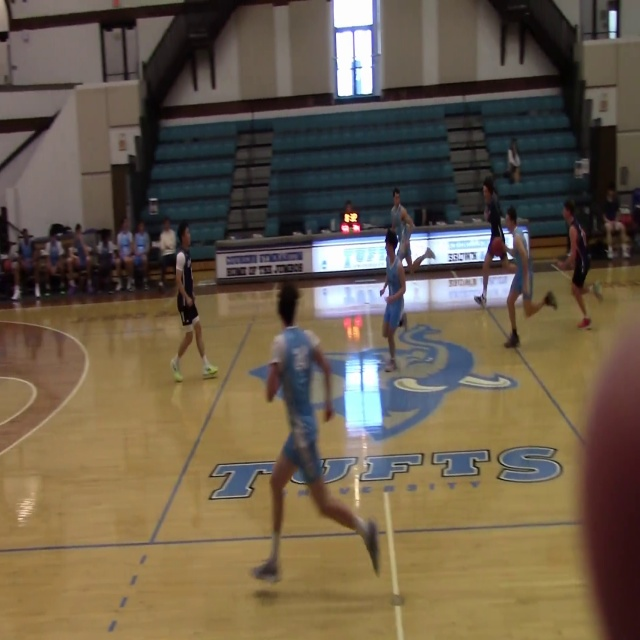Basketball: (581, 311, 639, 639), (490, 236, 505, 255)
